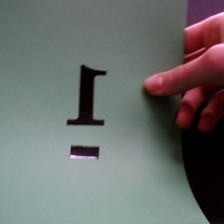green1: (54, 54, 119, 181)
